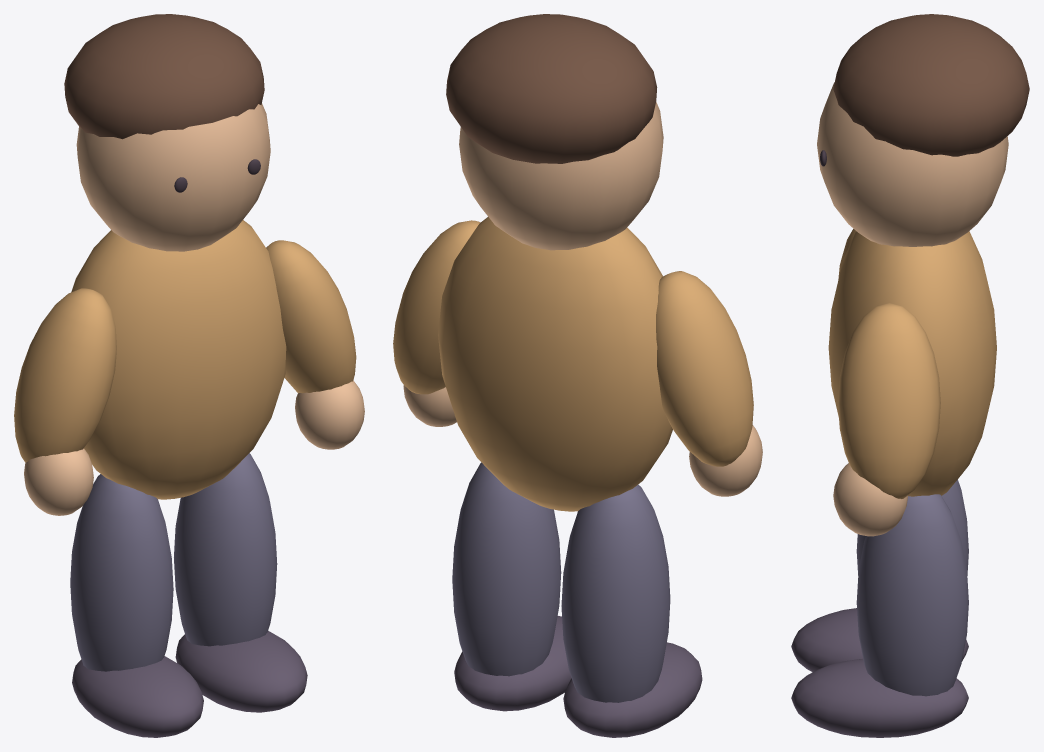
The model's file is commenter_a.gltf.
The picture shows the model from 3 angles, left to right: view 1: azimuth 30°, elevation 25°; view 2: azimuth 150°, elevation 25°; view 3: azimuth 270°, elevation 25°; orthographic projection. The views are drawn at different scales.
Visible parts, largest first — view 1: body, leg (×2), arm (×2), head, hair, shoe (×2), hand (×2); view 2: body, leg (×2), hair, arm (×2), head, shoe (×2), hand (×2); view 3: hair, body, leg (×2), head, arm, shoe (×2), hand.
Boxes of the visible parts, bbox=[...] form: body: bbox=[71, 220, 286, 499]; leg (×2): bbox=[70, 453, 277, 671]; arm (×2): bbox=[14, 240, 356, 462]; head: bbox=[76, 103, 270, 251]; hair: bbox=[64, 14, 264, 139]; shoe (×2): bbox=[72, 630, 307, 737]; hand (×2): bbox=[24, 380, 364, 515]; body: bbox=[438, 217, 672, 511]; leg (×2): bbox=[452, 462, 670, 702]; hair: bbox=[446, 14, 657, 163]; arm (×2): bbox=[393, 220, 753, 466]; head: bbox=[459, 102, 663, 250]; shoe (×2): bbox=[454, 616, 702, 737]; hand (×2): bbox=[403, 385, 762, 496]; hair: bbox=[833, 14, 1029, 156]; body: bbox=[828, 231, 996, 496]; leg (×2): bbox=[856, 479, 968, 696]; head: bbox=[817, 82, 1008, 246]; arm: bbox=[838, 303, 940, 498]; shoe (×2): bbox=[791, 608, 968, 737]; hand: bbox=[833, 463, 907, 536].
Size of the model in its own units: 0.83 by 1.59 by 0.51.
